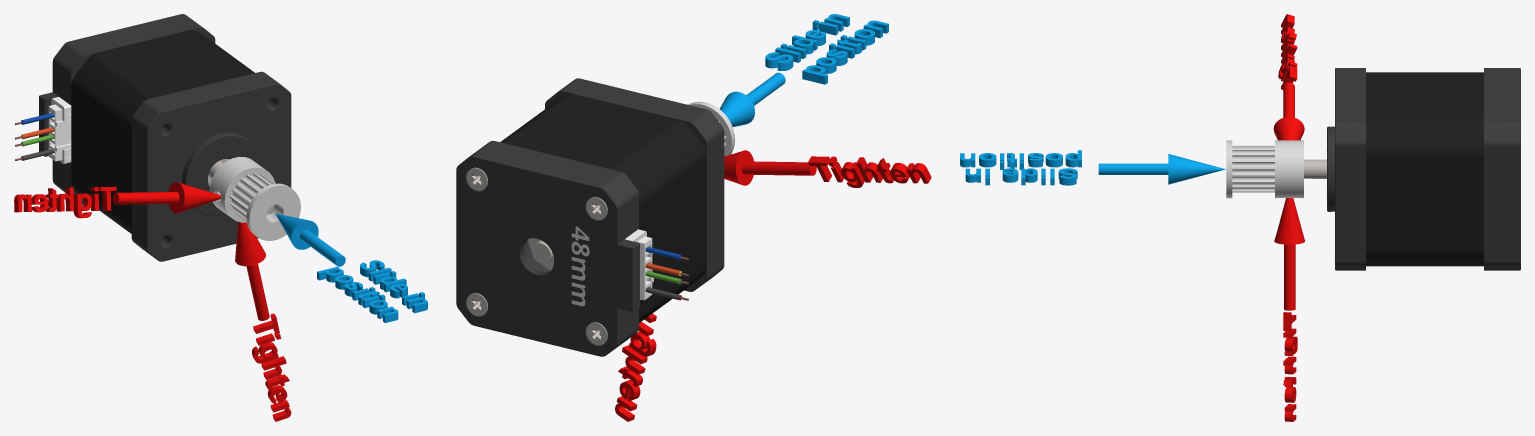
3 views of the same model, side by side, from view 1: azimuth 30°, elevation 25°; view 2: azimuth 150°, elevation 25°; view 3: azimuth 270°, elevation 25° (orthographic). The views are drawn at different scales.
Visible parts, largest first — view 1: Top, Middle, Bottom, COMPOUND001, Plug, 1_0_Arrow_red-Assemble v010, 1_0_Arrow_red-Assemble v4, COMPOUND, 1_2_Arrow_blue_slide_in_position v2, SOLID, Connector, 1_0_Arrow_red-Assemble v002 (+1 smaller); view 2: Bottom, Middle, Top, 1_0_Arrow_red-Assemble v010, Plug, 1_2_Arrow_blue_slide_in_position v2, SOLID, Shaft, 1_0_Arrow_red-Assemble v002, 1_2_Arrow_blue_slide_in_position v019, 1_0_Arrow_red-Assemble v012, 1_0_Arrow_red-Assemble v003; view 3: Middle, Bottom, Top, COMPOUND001, 1_2_Arrow_blue_slide_in_position v2, 1_0_Arrow_red-Assemble v4, COMPOUND, 1_0_Arrow_red-Assemble v010.
Boxes of the visible parts, x1,y1,x2,y2 form: Top: [131, 71, 291, 261]; Middle: [71, 30, 254, 233]; Bottom: [39, 14, 215, 205]; COMPOUND001: [229, 172, 292, 231]; Plug: [15, 104, 71, 161]; 1_0_Arrow_red-Assemble v010: [112, 182, 220, 213]; 1_0_Arrow_red-Assemble v4: [235, 222, 269, 320]; COMPOUND: [209, 157, 275, 222]; 1_2_Arrow_blue_slide_in_position v2: [275, 213, 345, 266]; SOLID: [246, 183, 300, 240]; Connector: [51, 97, 71, 164]; 1_0_Arrow_red-Assemble v002: [252, 342, 278, 363]; Bottom: [456, 140, 639, 356]; Middle: [500, 93, 706, 322]; Top: [545, 78, 724, 291]; 1_0_Arrow_red-Assemble v010: [724, 150, 816, 185]; Plug: [637, 236, 688, 300]; 1_2_Arrow_blue_slide_in_position v2: [720, 72, 785, 126]; SOLID: [688, 101, 735, 156]; Shaft: [527, 238, 553, 270]; 1_0_Arrow_red-Assemble v002: [629, 331, 656, 356]; 1_2_Arrow_blue_slide_in_position v019: [765, 52, 793, 70]; 1_0_Arrow_red-Assemble v012: [841, 162, 864, 187]; 1_0_Arrow_red-Assemble v003: [622, 345, 647, 374]; Middle: [1366, 72, 1483, 266]; Bottom: [1484, 68, 1520, 270]; Top: [1327, 68, 1365, 270]; COMPOUND001: [1232, 145, 1274, 192]; 1_2_Arrow_blue_slide_in_position v2: [1098, 154, 1225, 184]; 1_0_Arrow_red-Assemble v4: [1274, 198, 1304, 310]; COMPOUND: [1275, 140, 1303, 198]; 1_0_Arrow_red-Assemble v010: [1273, 82, 1304, 140].
Bounding box in the file's own units: 0.0877 × 0.0877 × 0.1447.
